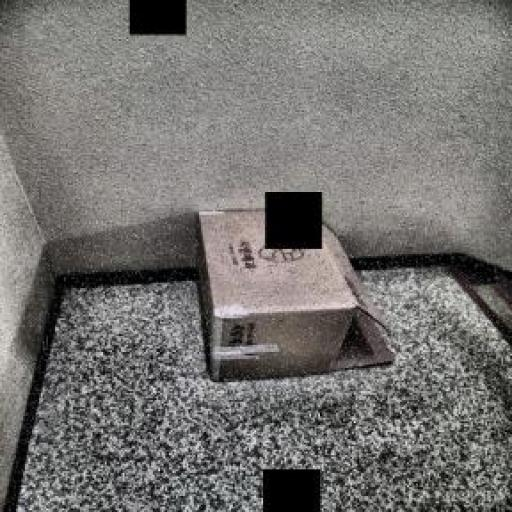box: (191, 198, 405, 385)
